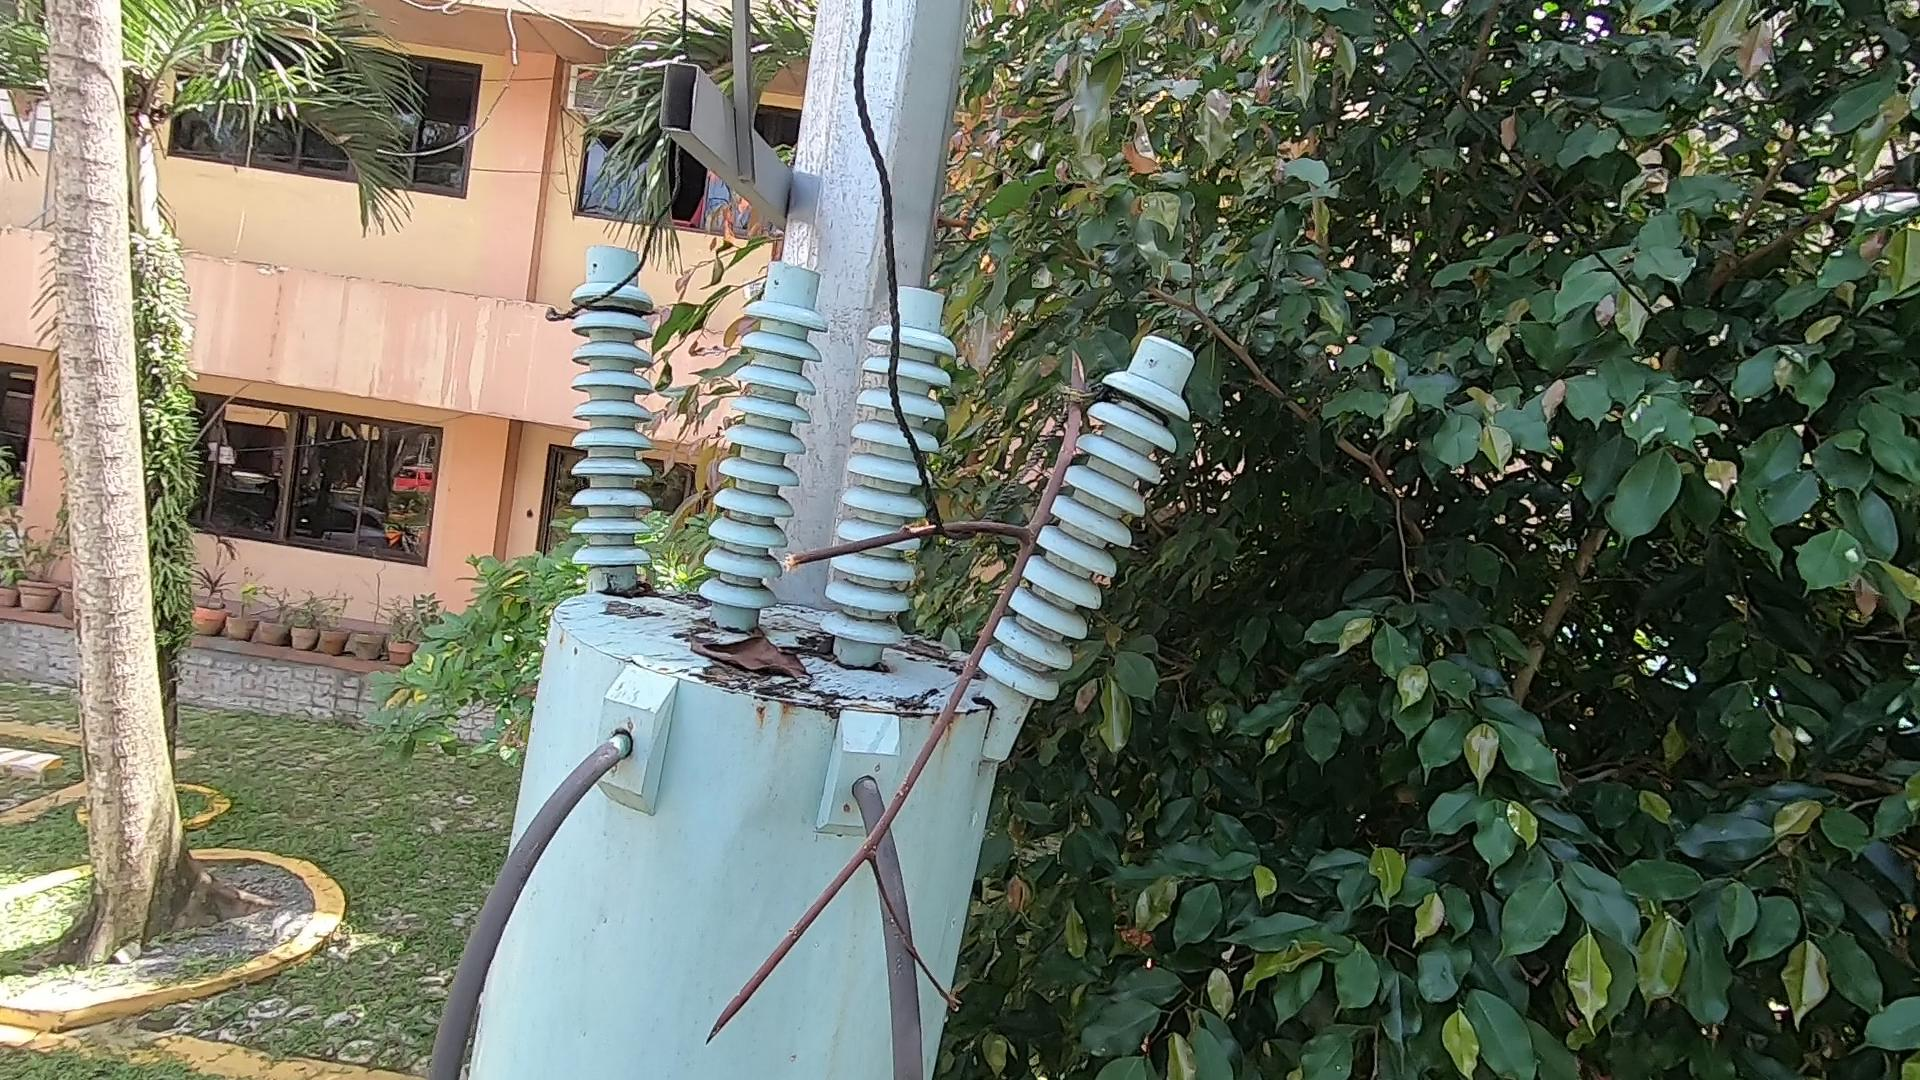leaf: (669, 607, 824, 702)
tree branch: (651, 342, 1149, 1048)
